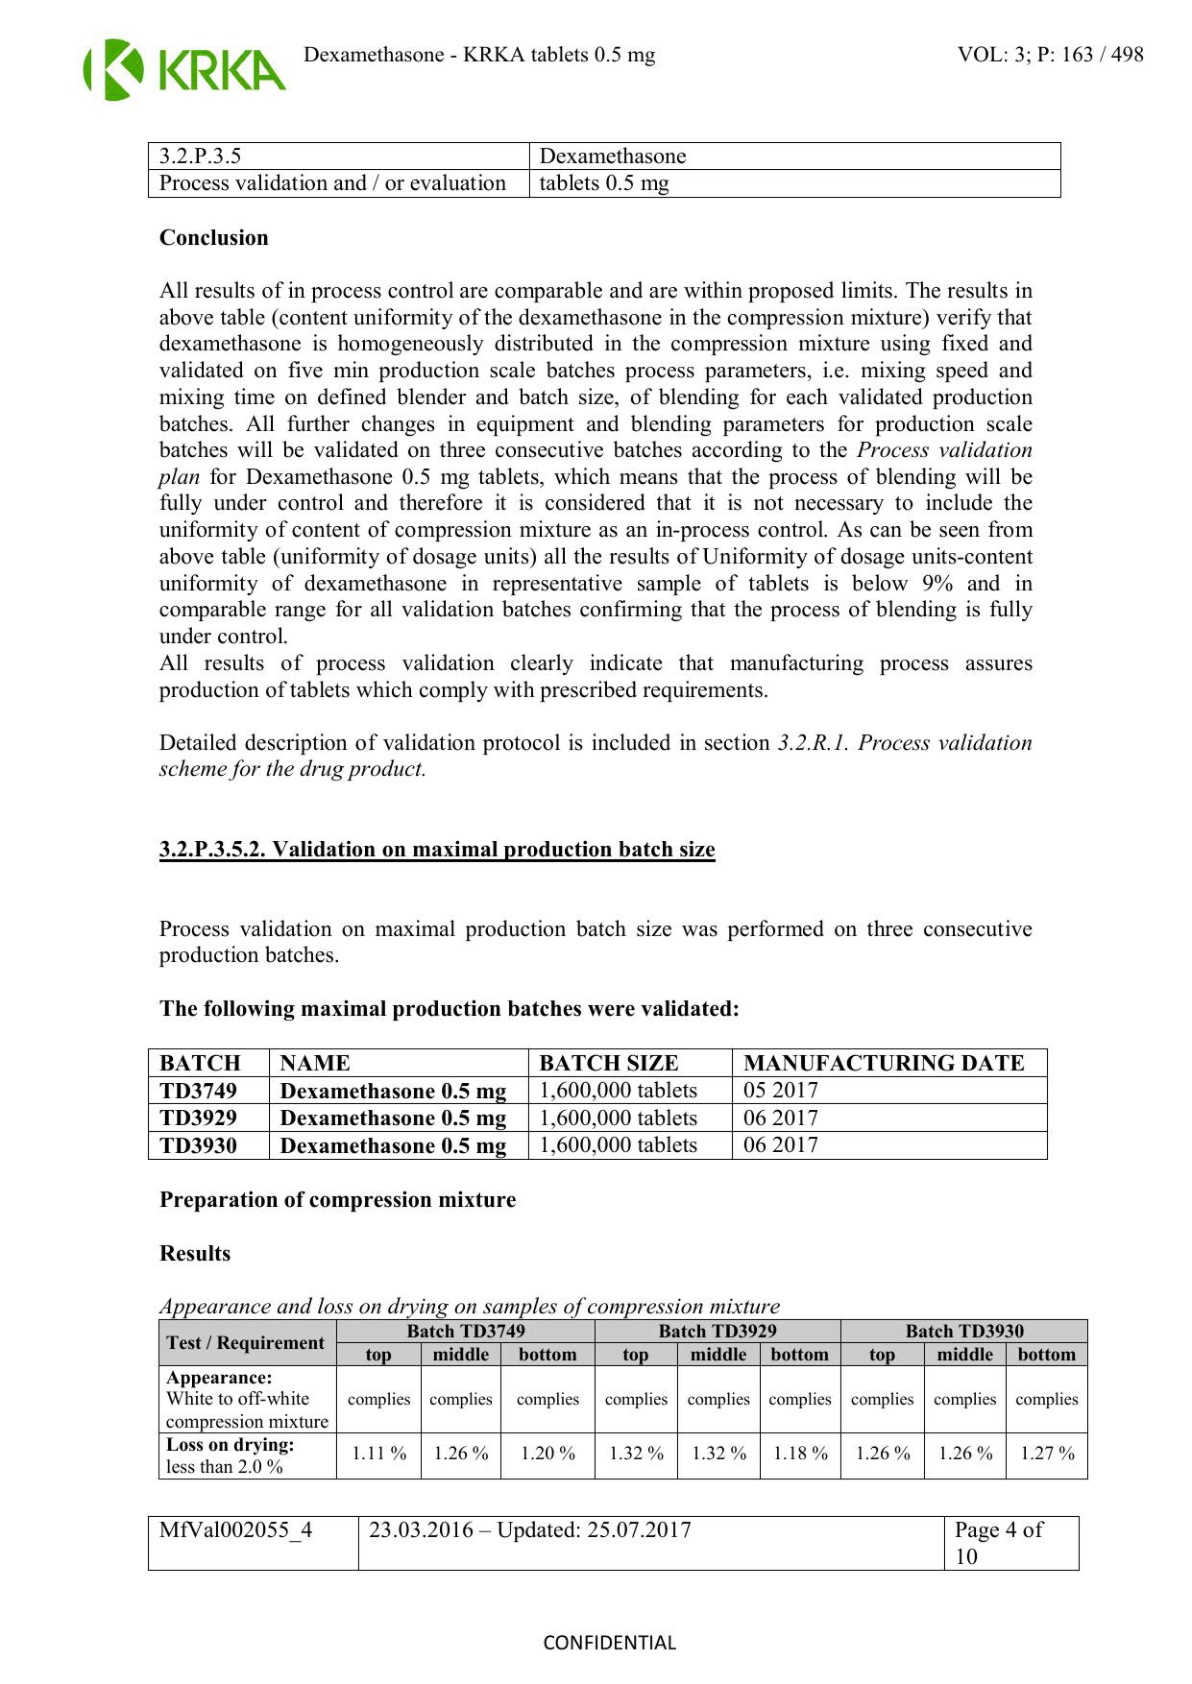full_lined: (147, 1047, 1048, 1160), (147, 141, 1062, 199), (147, 1515, 1080, 1572)
merged_cells: (157, 1318, 1089, 1482)
